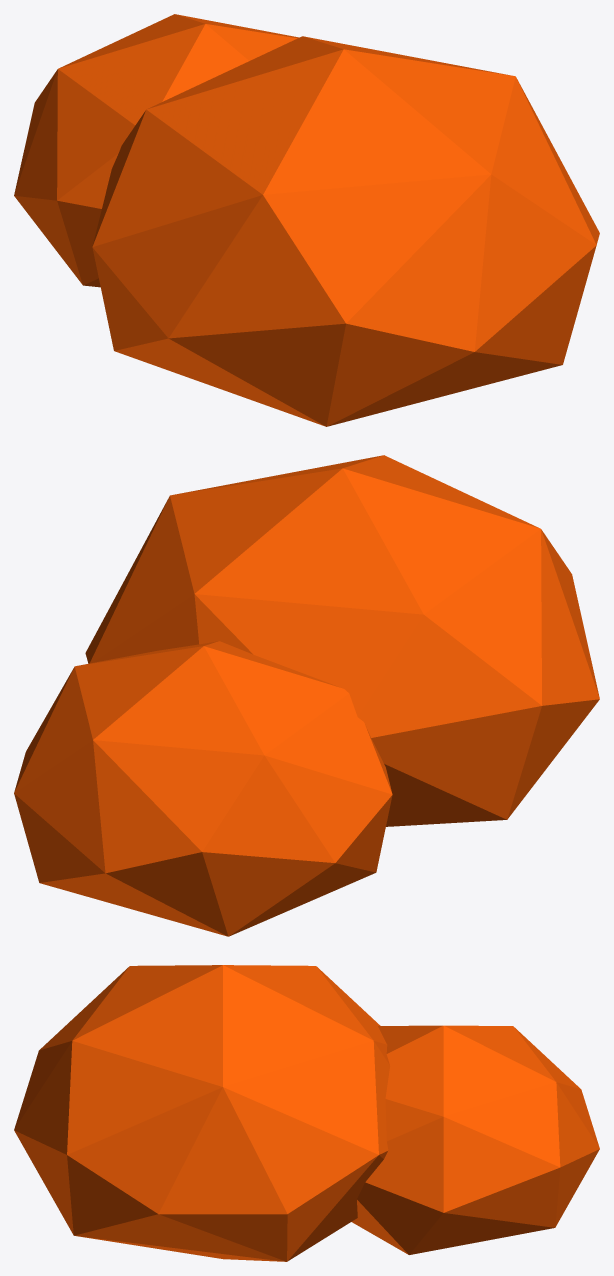
Rendered from Duo_Bush_002.fbx.
The picture shows the model from 3 angles, top to bottom: view 1: azimuth 30°, elevation 25°; view 2: azimuth 150°, elevation 25°; view 3: azimuth 270°, elevation 25°; orthographic projection. The views are drawn at different scales.
Visible parts, largest first — view 1: Duo Bush.002; view 2: Duo Bush.002; view 3: Duo Bush.002.
Boxes of the visible parts, box(x1,y1,x2,y2) form: Duo Bush.002: box(14, 14, 599, 426); Duo Bush.002: box(14, 455, 599, 936); Duo Bush.002: box(14, 965, 599, 1261).
Size of the model in its own units: 139 by 93.68 by 201.
